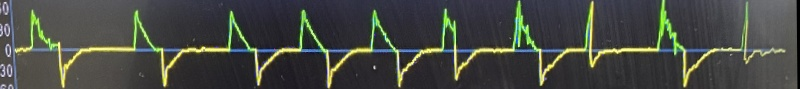hydrop_flow: (417, 0, 784, 89), (8, 0, 105, 89)
normal_flow: (104, 1, 414, 89)
